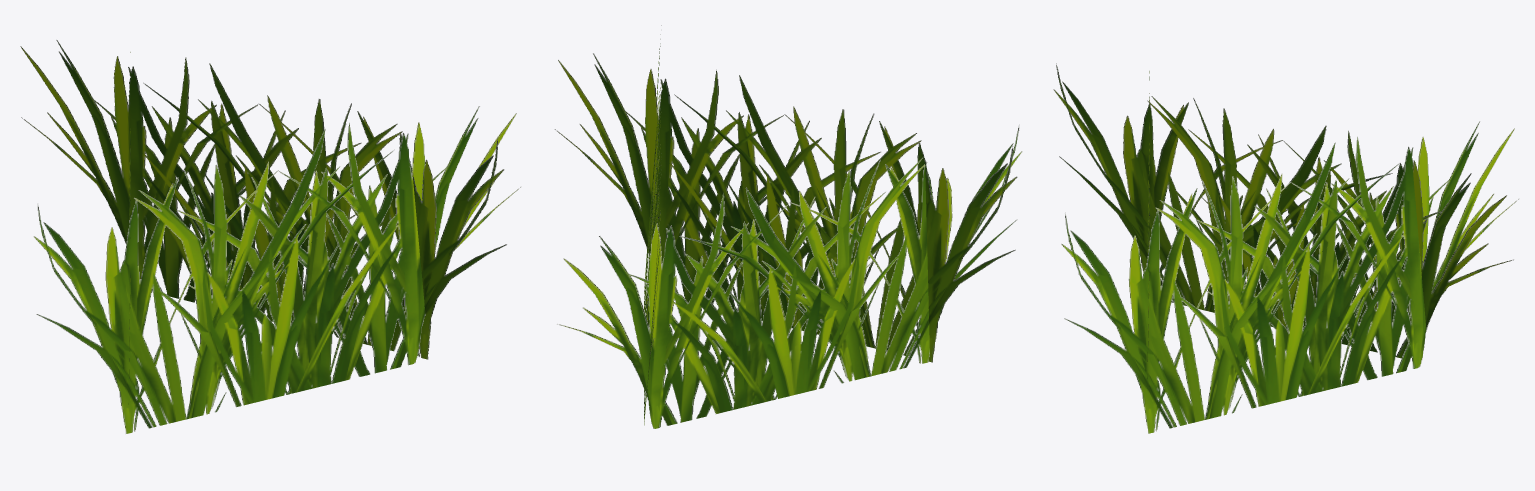
Rendered from greenGrass01.fbx.
The picture shows the model from 3 angles, left to right: view 1: azimuth 30°, elevation 25°; view 2: azimuth 150°, elevation 25°; view 3: azimuth 270°, elevation 25°; orthographic projection. The views are drawn at different scales.
Visible parts, largest first — view 1: Plane, Plane.002; view 2: Plane.001, Plane, Plane.002; view 3: Plane.002, Plane.001.
Part boxes in pixels (x1,y1,x2,y2): Plane: (33, 106, 521, 433); Plane.002: (20, 40, 506, 359); Plane.001: (557, 124, 1022, 428); Plane: (554, 53, 1017, 362); Plane.002: (644, 25, 661, 425); Plane.002: (1061, 121, 1519, 433); Plane.001: (1053, 63, 1513, 358).
Bounding box in the file's own units: 200 × 100 × 177.
